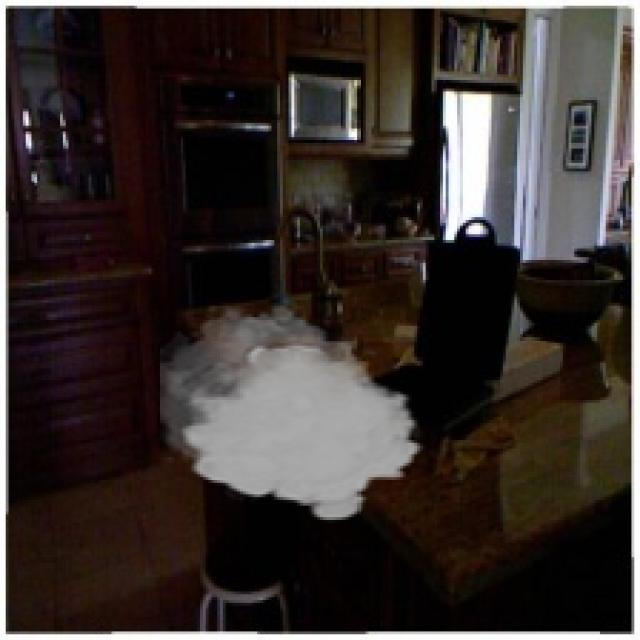smoke: (160, 297, 426, 523)
